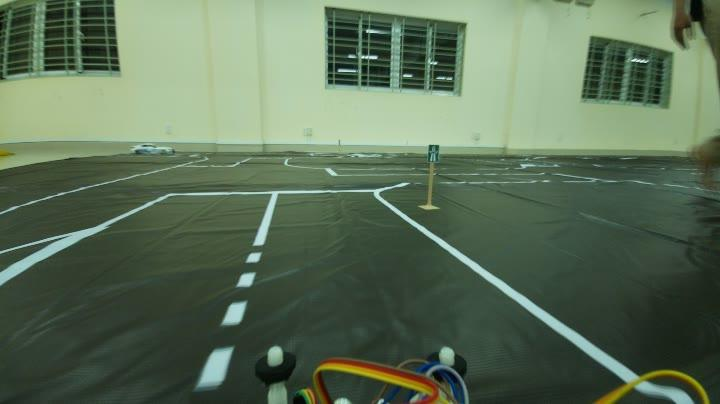highway_entry: (425, 140, 441, 166)
